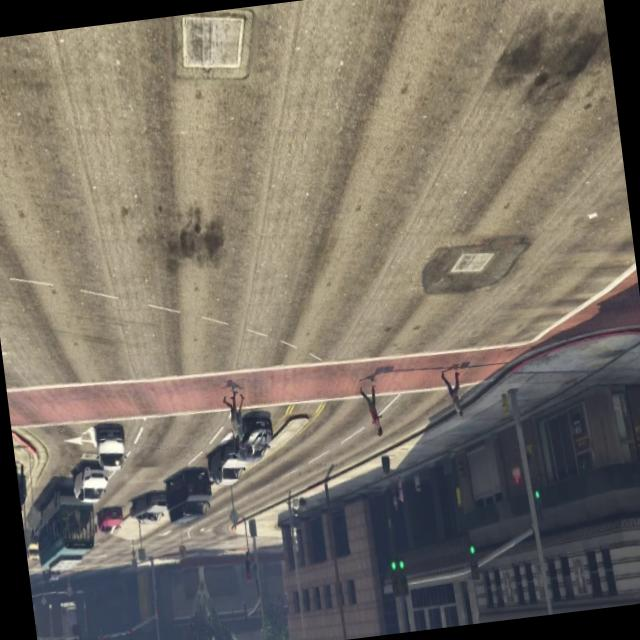Green-Signal: (384, 542, 414, 605), (462, 530, 486, 592), (528, 478, 549, 532)
